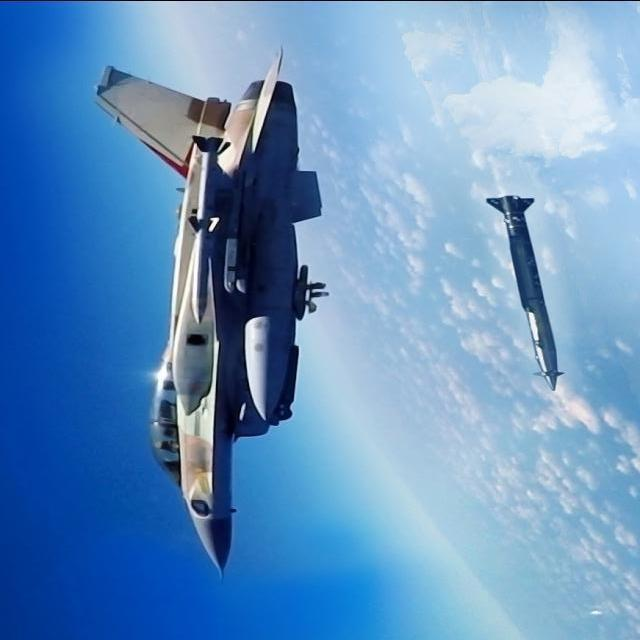missile: (240, 80, 300, 426), (481, 188, 560, 382)
